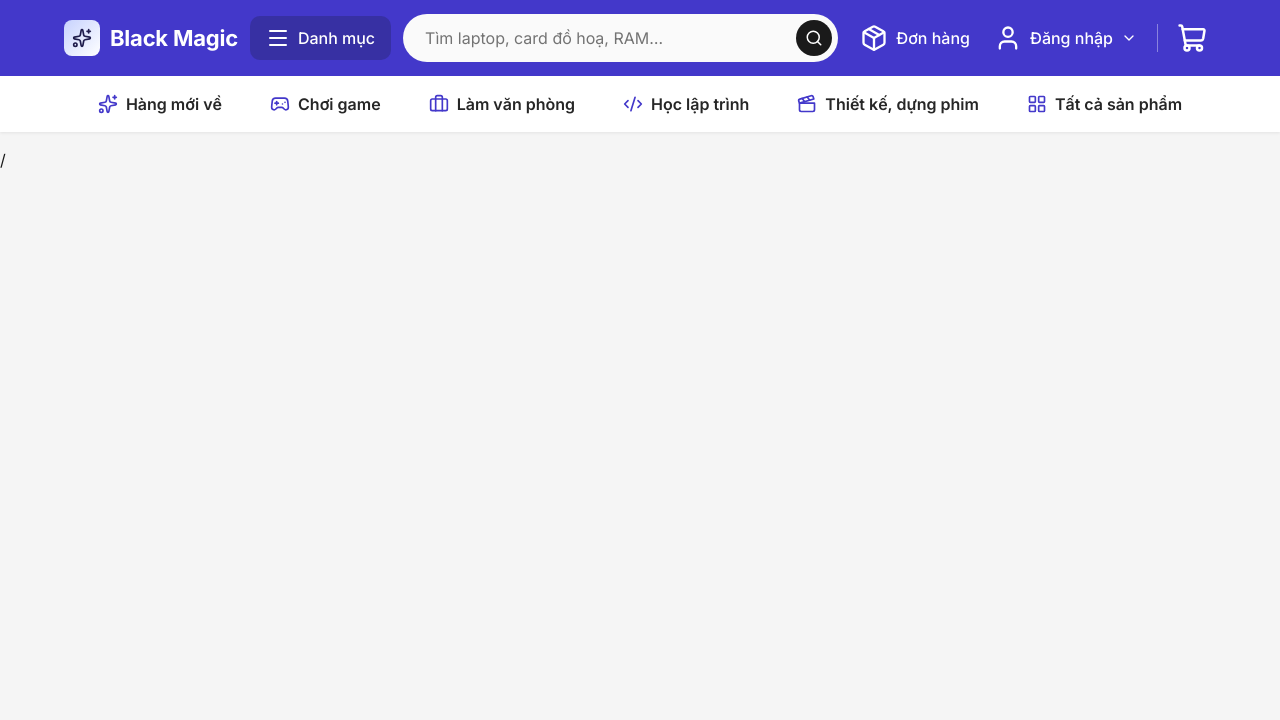
Test: Header › máy tính: bấm một loại hàng thì sang trang lọc và đóng bảng
Click the button "Danh mục". click: {"x": 320, "y": 38}
box: x1=250 y1=16 x2=391 y2=60
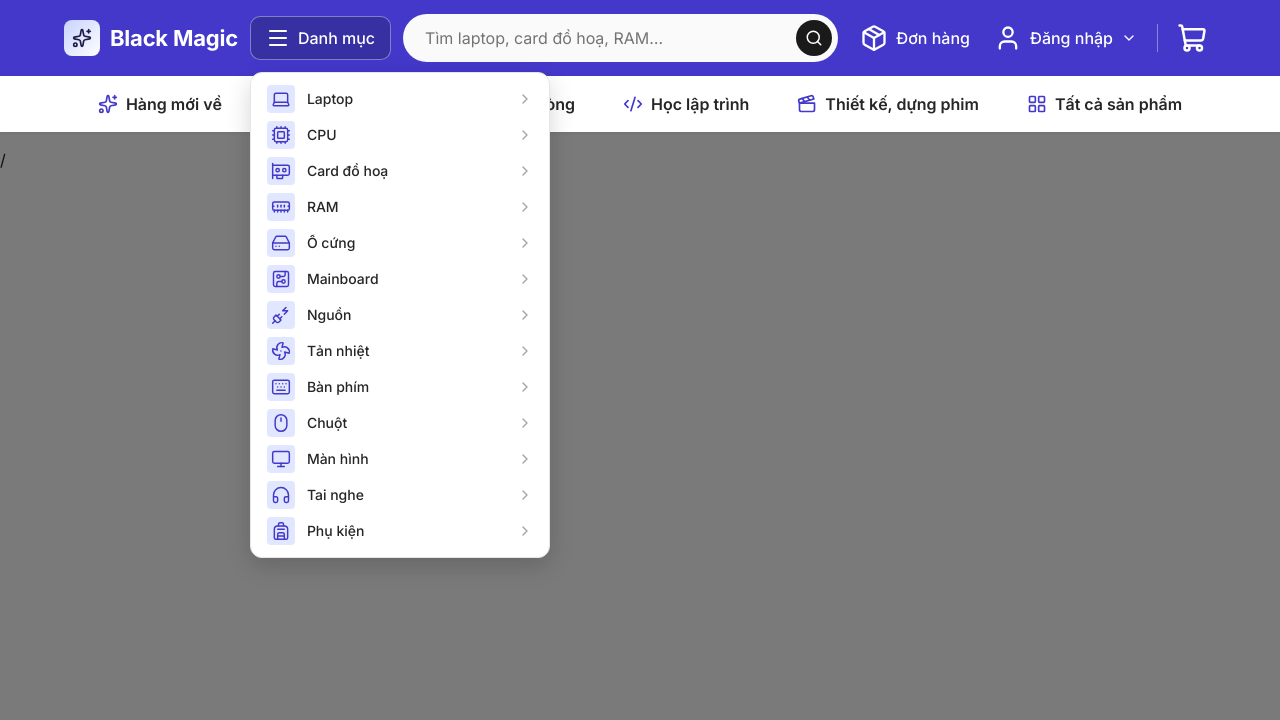
Click the link "Chuột". click: {"x": 327, "y": 422}
box: x1=259 y1=405 x2=541 y2=441
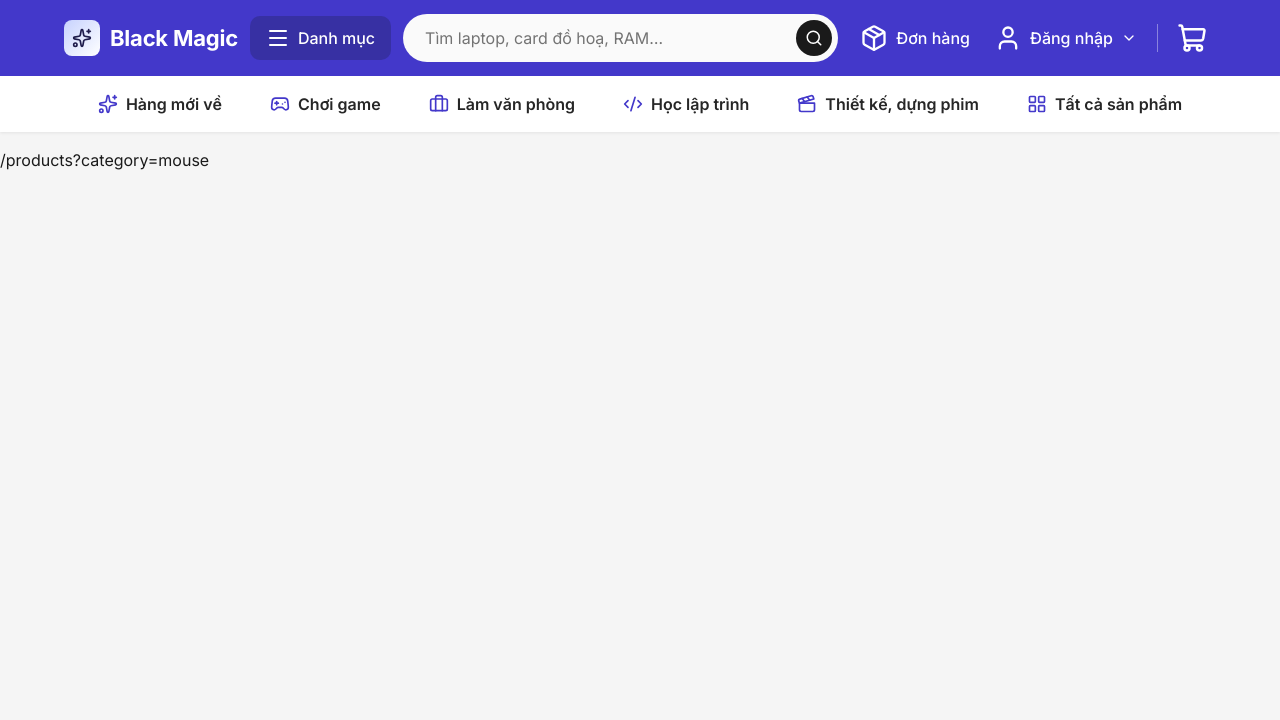
Check: the text with test id "url" reads "/products?category=mouse", box x1=0 y1=150 x2=209 y2=170
Check: the dialog is gone
